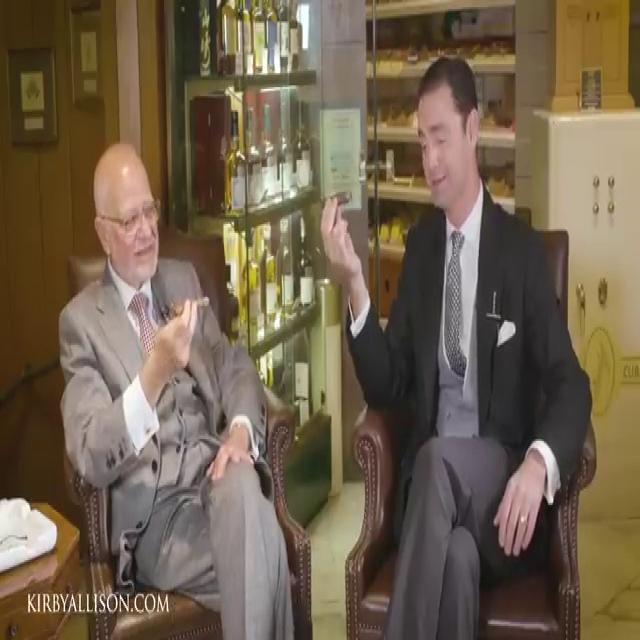Smooking: (170, 283, 219, 327)
